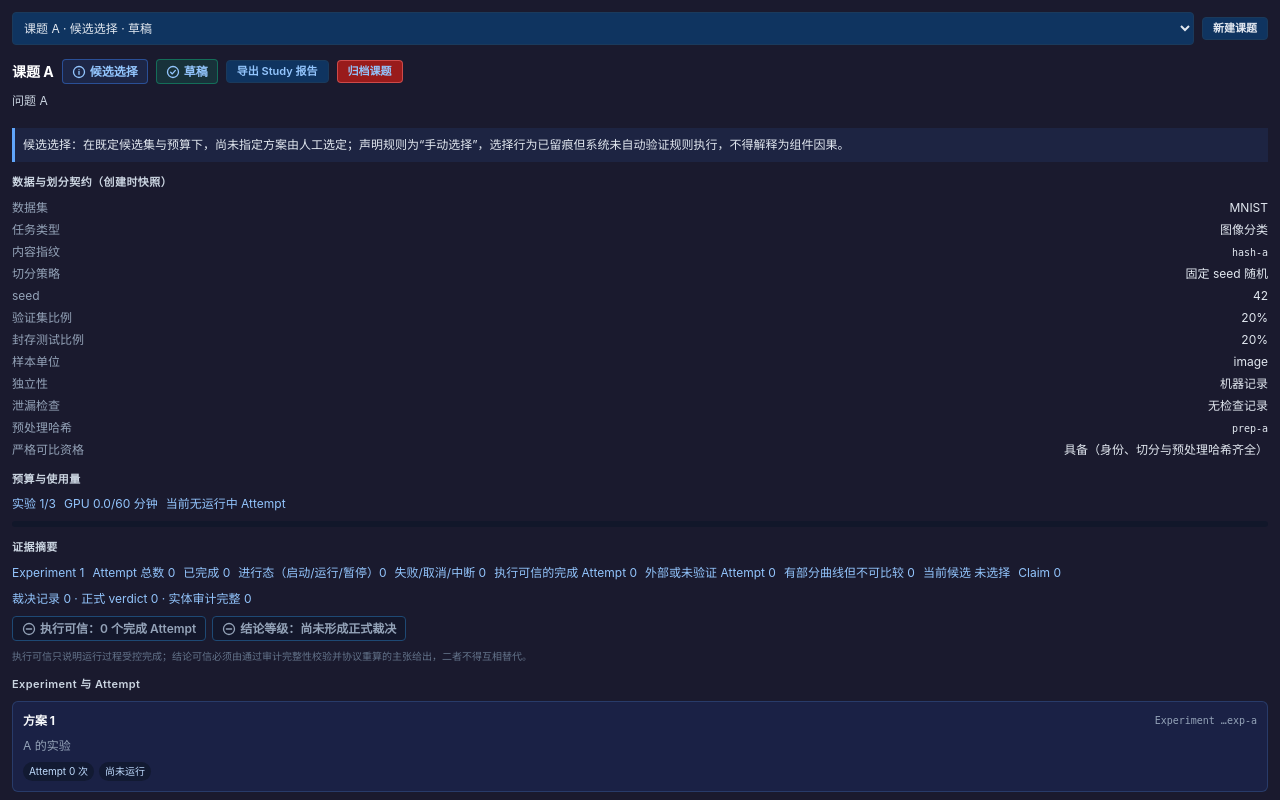
it: StudyPanel 总览 › 切换 Study 后总览立即更新（证据作用域随身份切换）
Expected: the text "课题 A" is shown, [12,61,54,82]
Expected: the text "A 的实验" is shown, [23,738,71,753]
Select "课题 B · 候选选择 · 草稿" in the dropdown named "活动 Study" at (603, 28), box [12,12,1194,45]
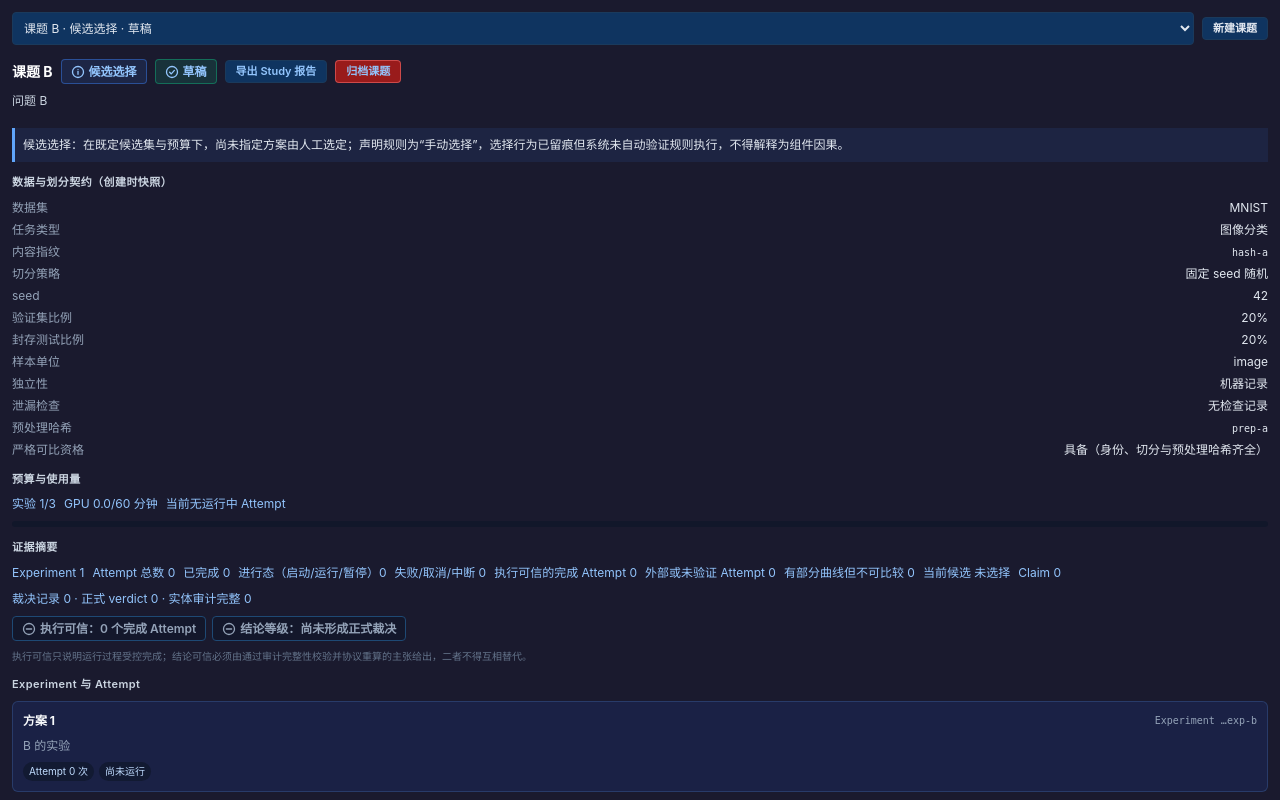
Expected: the text "课题 B" is shown, [12,61,53,82]
Expected: the text "B 的实验" is shown, [23,738,70,753]
Expected: the text "A 的实验" is gone
